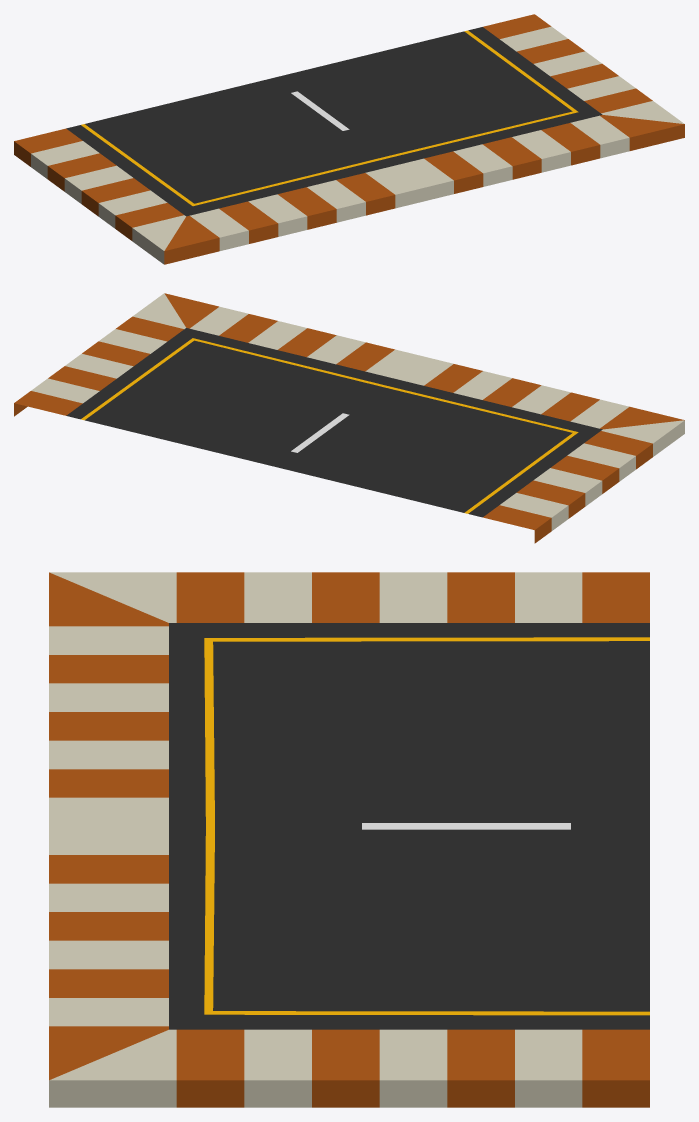
The model's file is SM_Road_05.fbx.
3 views of the same model, one above another, from view 1: azimuth 30°, elevation 25°; view 2: azimuth 150°, elevation 25°; view 3: azimuth 270°, elevation 25° (orthographic). The views are drawn at different scales.
Visible parts, largest first — view 1: SM_Road_05_LOD0; view 2: SM_Road_05_LOD0; view 3: SM_Road_05_LOD0.
Part boxes in pixels (x1,y1,x2,y2): SM_Road_05_LOD0: (14,14,684,264); SM_Road_05_LOD0: (14,293,684,543); SM_Road_05_LOD0: (49,572,649,1107).
Bounding box in the file's own units: 1000 × 500 × 25.
1 material, 1 textured.
